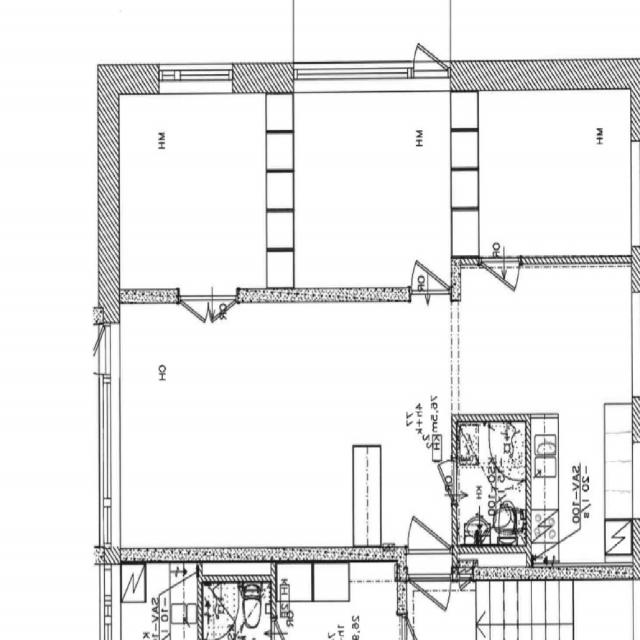door: (412, 4, 450, 88), (62, 324, 118, 374), (408, 488, 450, 554), (409, 573, 450, 640), (412, 234, 450, 302), (481, 256, 518, 318), (208, 289, 238, 343), (180, 289, 208, 343), (423, 460, 457, 502)
